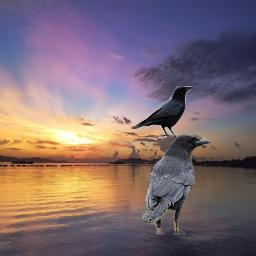Crow: (140, 134, 211, 235), (131, 86, 193, 137)
